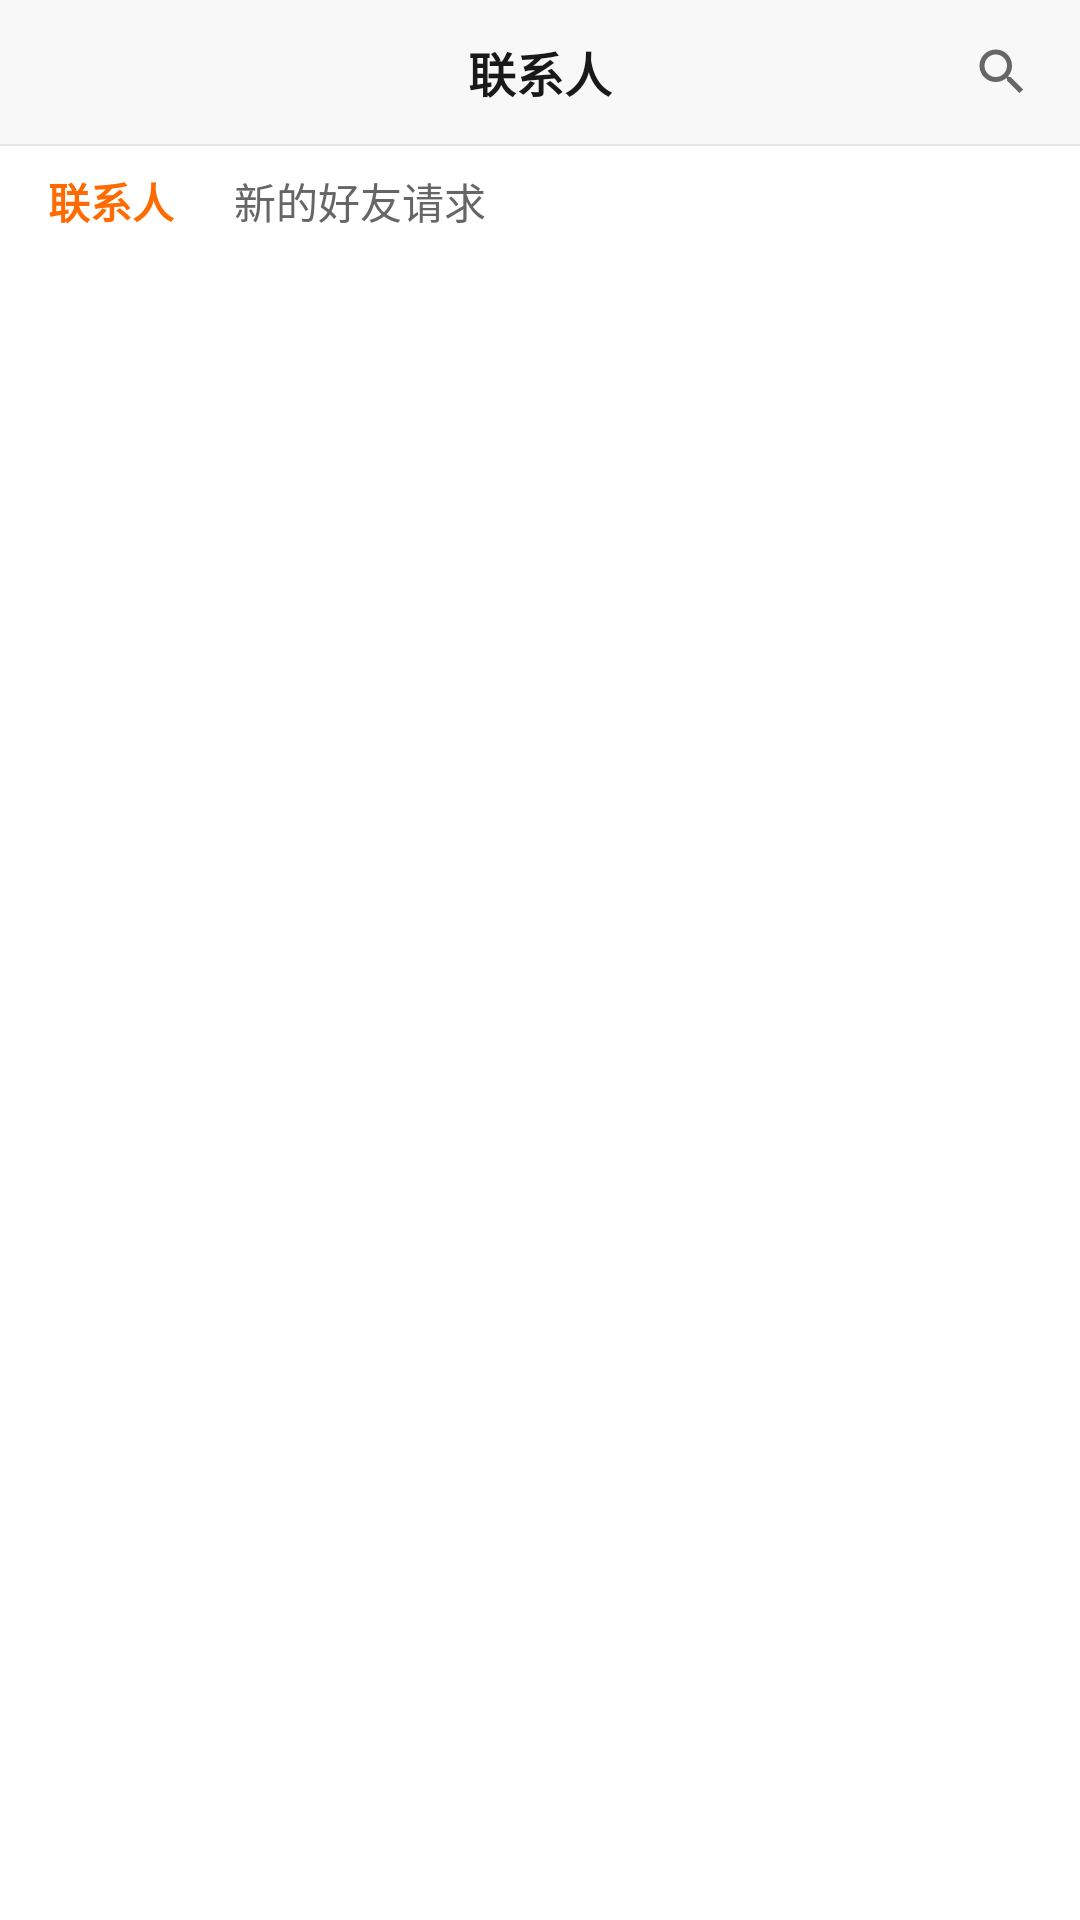

Where to tap for icons on this 1080 × 1920 app screen, as (x,y):
search: (1001,71)
